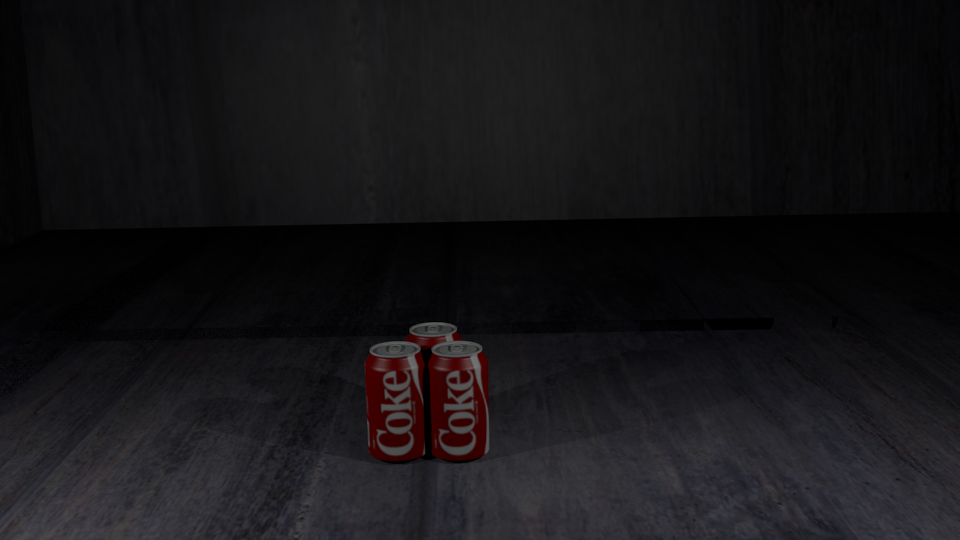cola_can: (365, 342, 427, 458), (427, 341, 488, 456), (405, 323, 461, 432)
